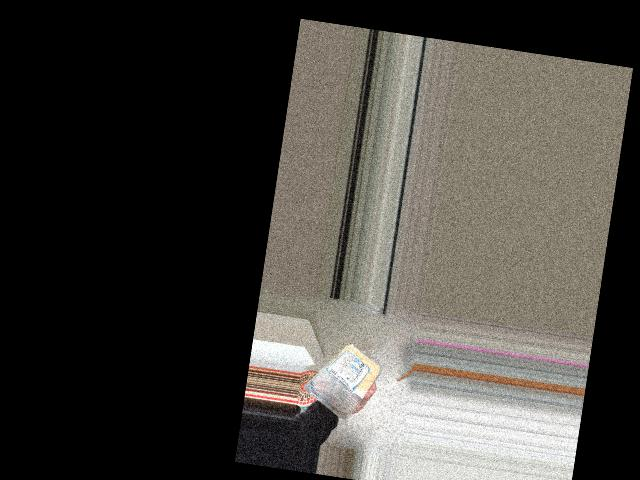cheese: (307, 336, 379, 416)
